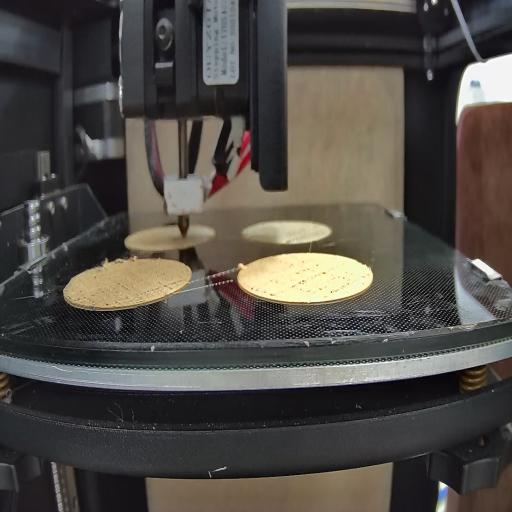under_extrusion: (288, 260, 352, 298), (78, 272, 130, 304), (146, 278, 181, 299), (248, 285, 274, 297)
